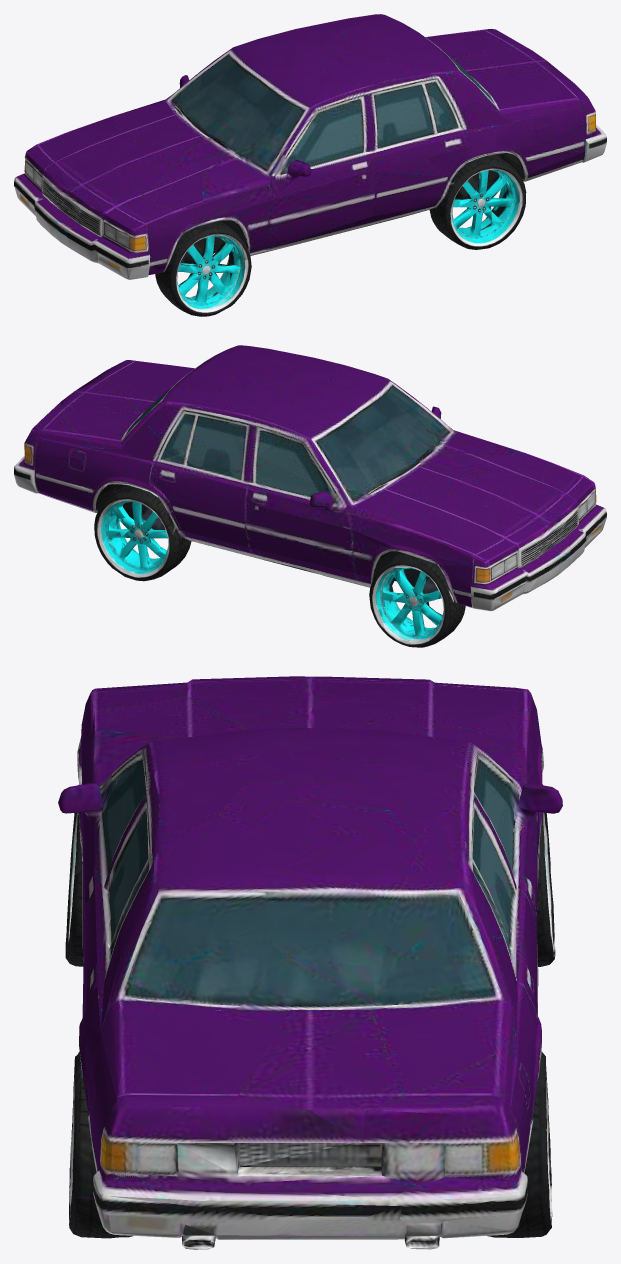
Rendered from purple-scraper.glb.
3 renders of one model, top to bottom at view 1: azimuth 30°, elevation 25°; view 2: azimuth 150°, elevation 25°; view 3: azimuth 270°, elevation 25°, orthographic. The views are drawn at different scales.
Parts seen in each view (by area): view 1: Mesh_0; view 2: Mesh_0; view 3: Mesh_0.
Boxes of the visible parts, x1,y1,x2,y2 form: Mesh_0: [14, 14, 606, 316]; Mesh_0: [14, 345, 606, 647]; Mesh_0: [58, 676, 562, 1249].
Bounding box in the file's own units: 1.9 × 0.6441 × 0.8272.
Materials: 1 (1 with a texture image).
